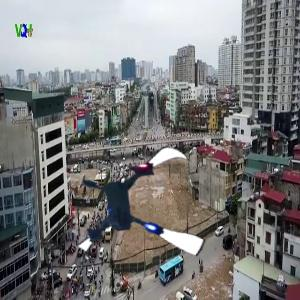drone: (69, 132, 217, 280)
